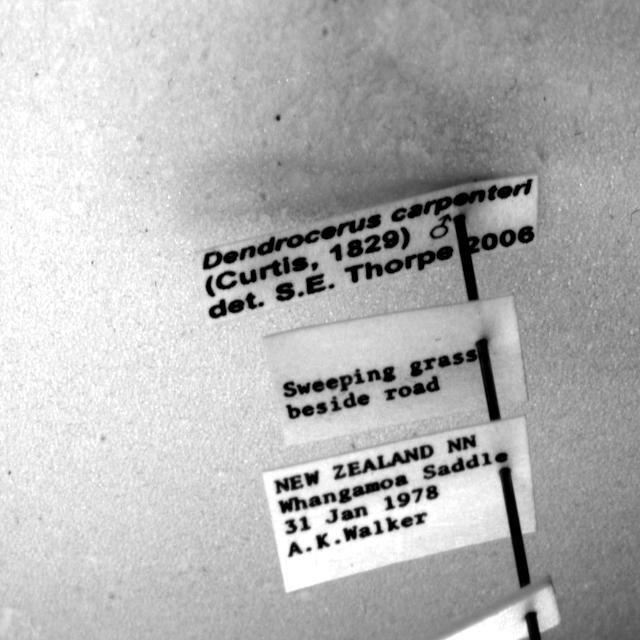typed_label: (196, 176, 538, 321), (264, 416, 536, 592), (265, 296, 528, 444)
